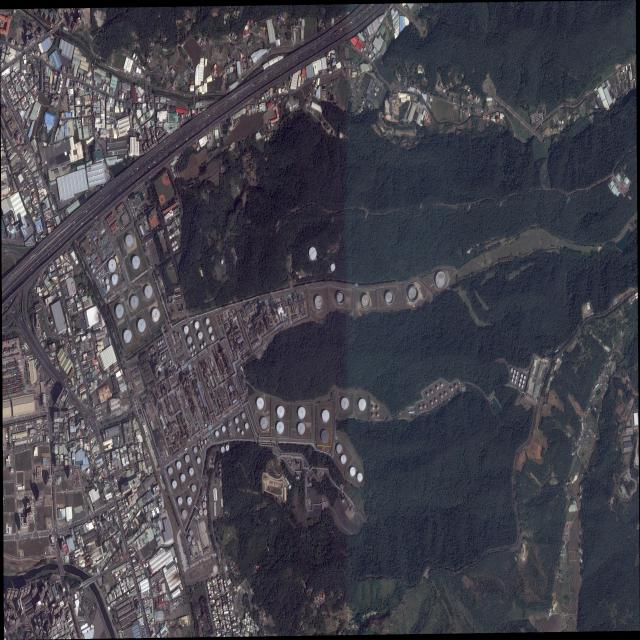storage-tank: (435, 271, 446, 288), (408, 286, 418, 301), (115, 304, 124, 317), (385, 292, 394, 305), (123, 330, 132, 342), (130, 296, 139, 308), (108, 259, 116, 272), (321, 429, 329, 442), (337, 291, 345, 304), (362, 295, 370, 308), (138, 319, 146, 331), (152, 308, 160, 320), (144, 285, 152, 297), (132, 255, 140, 267), (125, 234, 133, 246), (260, 417, 268, 429), (298, 406, 306, 418), (309, 247, 317, 259), (315, 296, 323, 308), (341, 397, 349, 409), (358, 399, 366, 411), (277, 406, 285, 417), (276, 422, 284, 433), (322, 410, 330, 421), (298, 422, 305, 434), (257, 397, 264, 408), (112, 274, 118, 283), (336, 444, 342, 453), (180, 474, 186, 482), (350, 467, 356, 475), (357, 473, 363, 481), (341, 455, 346, 464), (189, 467, 194, 475), (172, 480, 177, 488), (187, 337, 192, 344), (185, 455, 190, 462), (176, 461, 181, 468), (168, 468, 173, 475), (198, 332, 203, 339), (184, 326, 189, 333), (195, 322, 200, 329), (191, 485, 196, 492), (178, 497, 183, 504), (187, 497, 192, 504), (182, 510, 187, 517), (241, 412, 246, 419), (193, 447, 198, 453), (208, 327, 213, 333), (221, 446, 225, 453), (226, 444, 230, 451), (211, 334, 215, 341), (199, 509, 203, 516), (204, 509, 208, 516), (215, 431, 219, 437), (222, 426, 226, 432), (197, 457, 201, 463), (206, 318, 210, 324), (203, 502, 207, 508), (188, 536, 192, 542), (192, 539, 196, 545), (245, 423, 249, 429), (331, 264, 335, 270), (235, 418, 239, 423), (444, 391, 448, 396), (376, 413, 380, 418), (106, 279, 109, 285), (190, 530, 193, 536), (237, 427, 240, 432), (107, 285, 110, 290), (419, 405, 422, 410), (372, 413, 375, 418), (376, 405, 379, 410), (201, 345, 204, 349), (424, 404, 427, 408), (426, 393, 429, 397), (431, 390, 434, 394), (436, 386, 439, 390), (431, 401, 434, 405), (455, 384, 458, 388), (514, 380, 517, 384), (372, 406, 375, 410), (441, 382, 443, 387), (451, 387, 453, 392), (204, 440, 207, 443), (202, 445, 205, 448), (92, 269, 95, 272), (221, 260, 224, 263), (511, 379, 514, 382), (204, 498, 207, 501), (204, 342, 206, 346), (190, 347, 192, 351), (193, 345, 195, 349), (242, 431, 244, 435), (207, 438, 209, 442), (519, 383, 521, 387), (201, 441, 203, 445), (91, 264, 93, 268), (158, 342, 160, 346), (162, 356, 164, 360), (164, 354, 166, 358), (435, 398, 437, 402), (441, 394, 443, 398), (511, 368, 513, 372), (514, 370, 516, 374), (513, 374, 515, 378), (520, 378, 522, 382), (523, 380, 525, 384), (235, 316, 237, 320), (522, 385, 524, 388), (191, 353, 193, 356), (195, 351, 197, 354), (161, 345, 163, 348), (219, 464, 221, 467), (219, 468, 221, 471), (220, 473, 222, 476), (160, 341, 162, 344), (162, 340, 164, 343), (517, 372, 519, 375), (516, 376, 518, 379), (521, 374, 523, 377), (524, 376, 526, 379), (233, 318, 235, 321), (169, 361, 171, 363), (159, 347, 161, 349), (99, 272, 100, 275), (179, 333, 180, 335), (180, 336, 181, 338)
